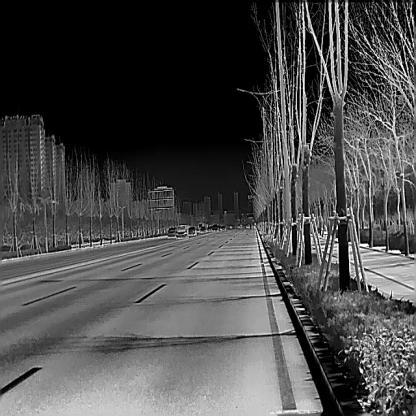car: (176, 225, 187, 238), (167, 227, 176, 238), (187, 226, 196, 235), (212, 224, 218, 232), (199, 226, 205, 232), (220, 225, 226, 230)
